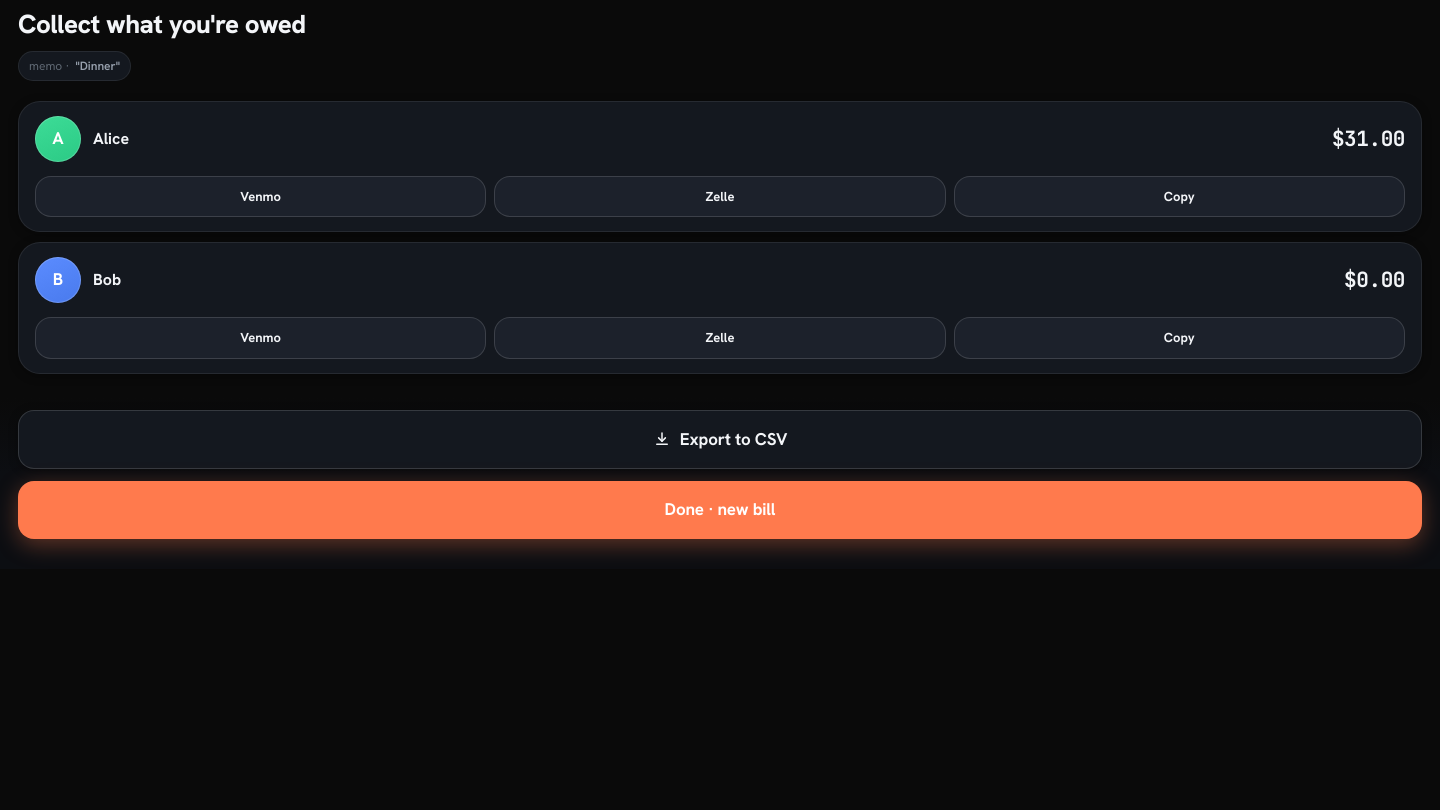
<SendScreen /> — Zelle › shows '✓ zelle sent' status after clicking Zelle
Click the 1st button "Zelle". click: [720, 196]
box: [494, 176, 946, 217]
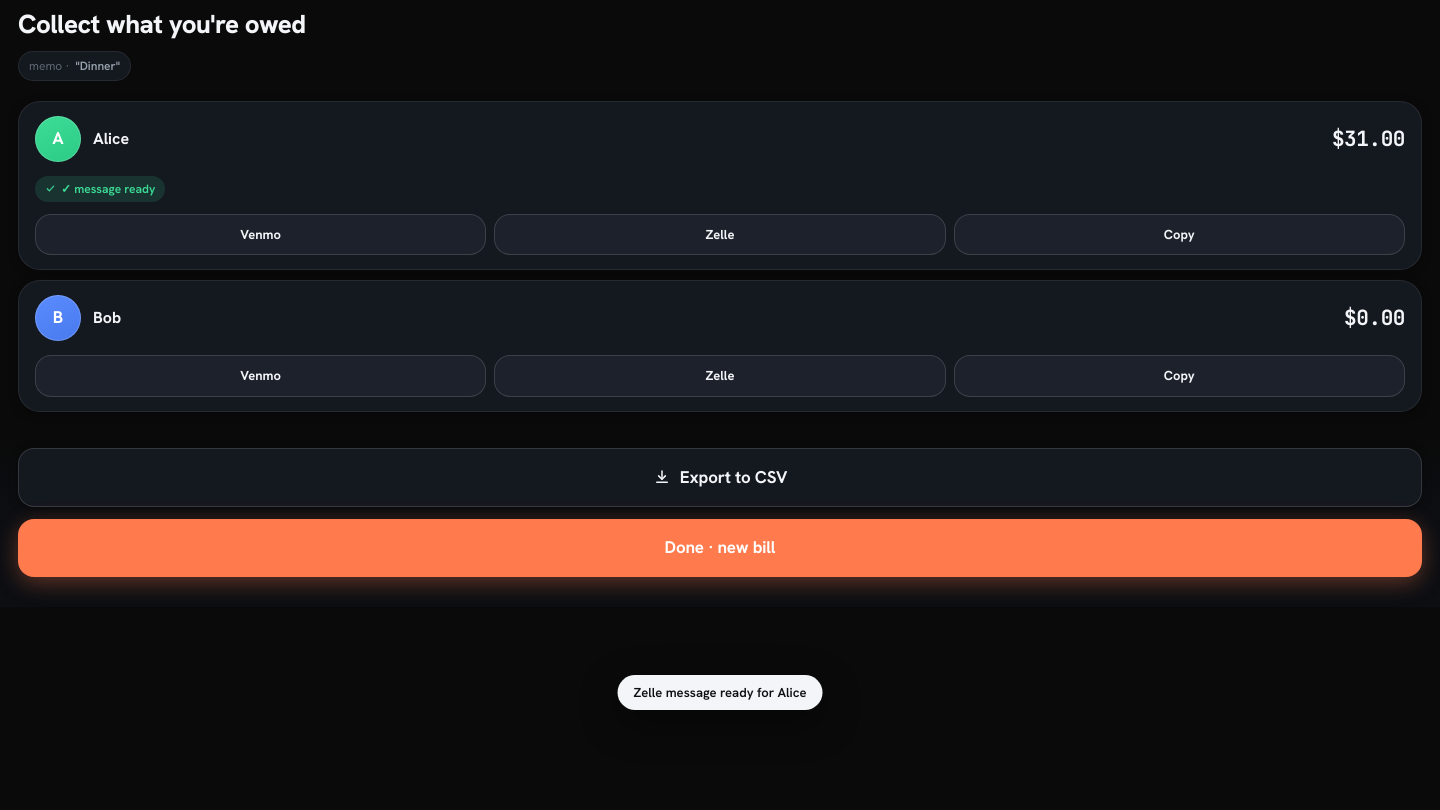
expect the element with test id "status-zelle-alice" is shown: met, box [35, 176, 165, 202]
